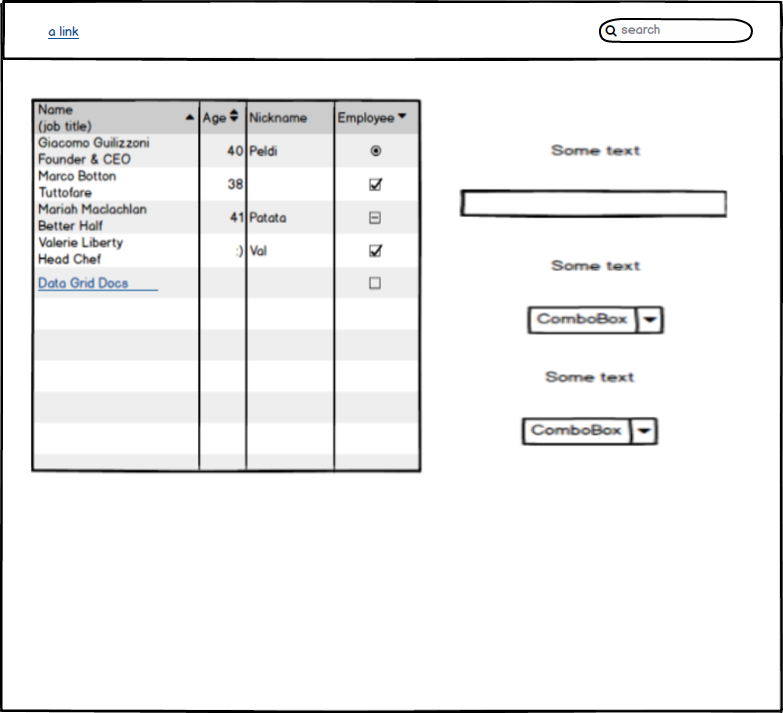input: (455, 181, 735, 225)
label: (547, 253, 653, 282), (536, 364, 642, 391), (543, 138, 651, 163)
navlink: (37, 19, 92, 45)
search: (592, 12, 756, 48)
select_box: (514, 412, 668, 451), (520, 301, 670, 339)
table: (21, 91, 430, 478)
